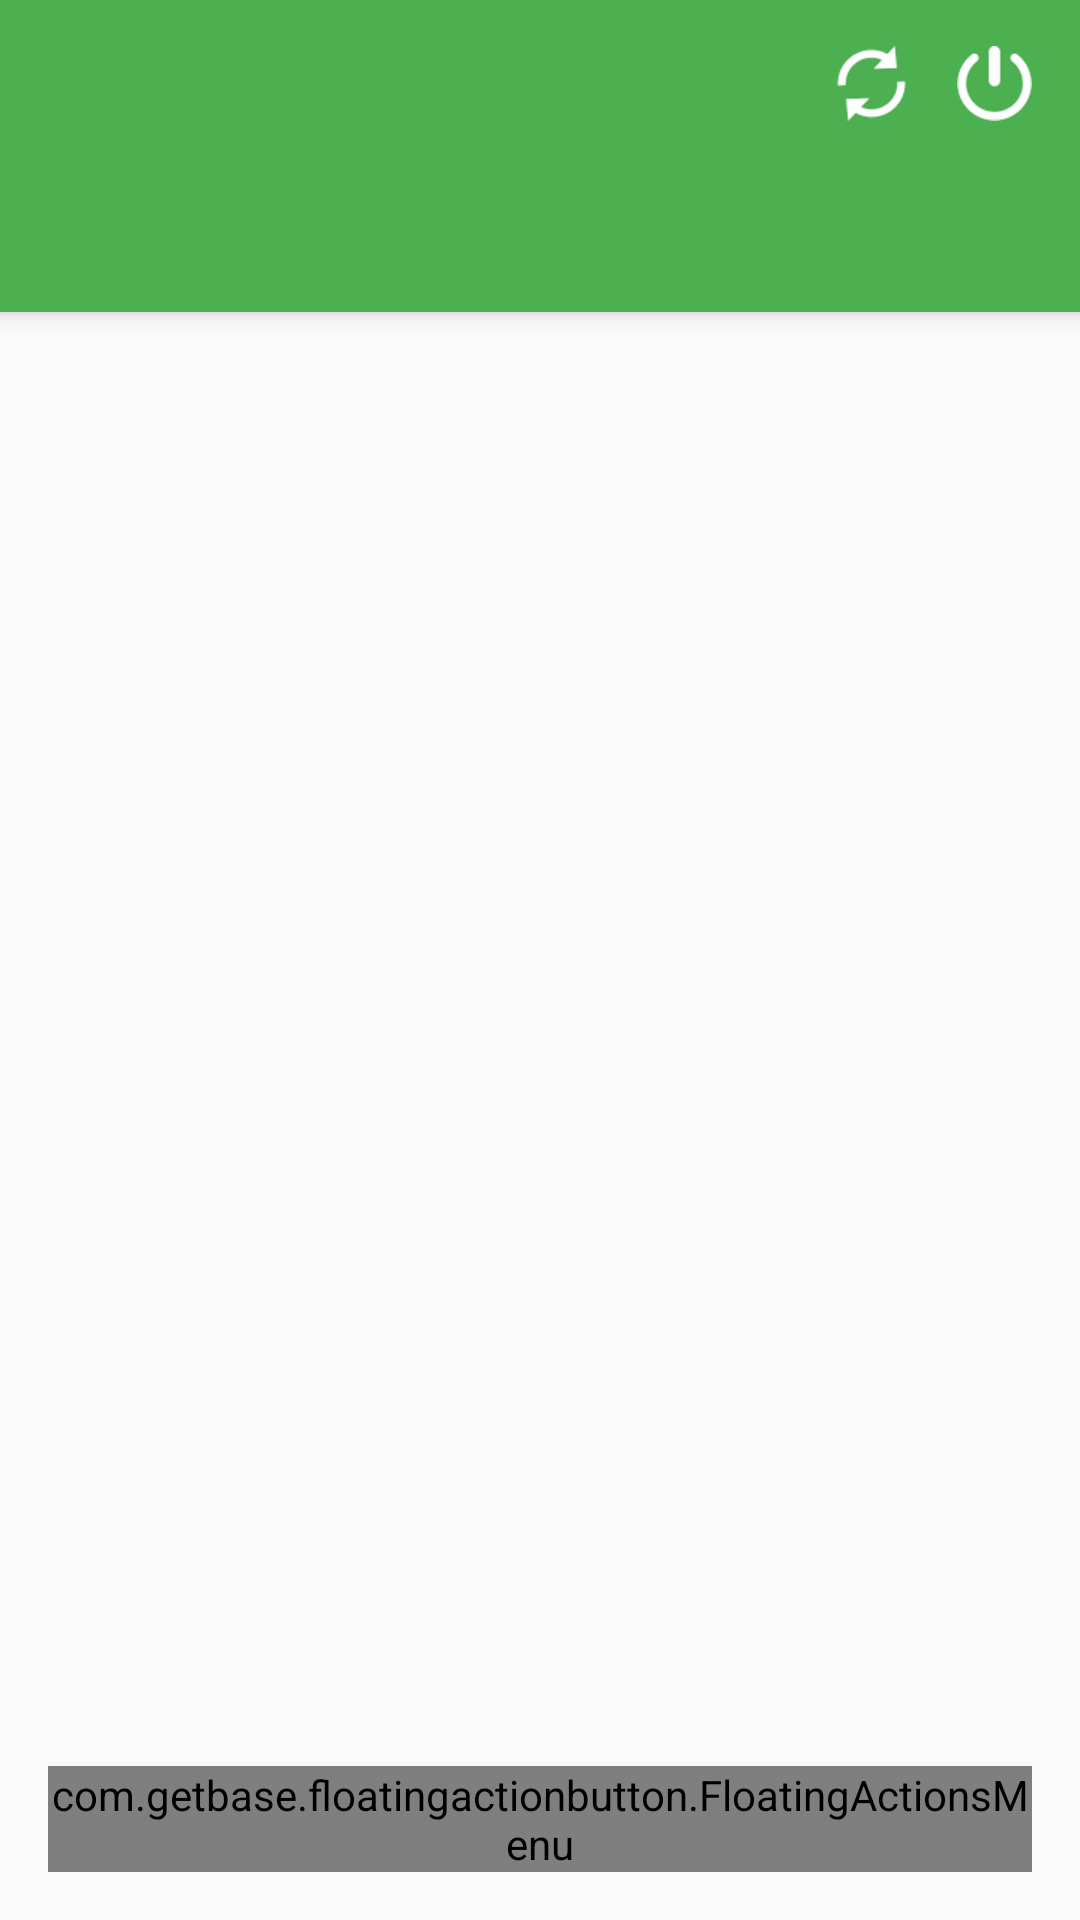

Icons on this 1080 x 1920 Android screen, each with the point to tap as [x,y]:
shutdown: [994,83]
synchronize: [871,83]
